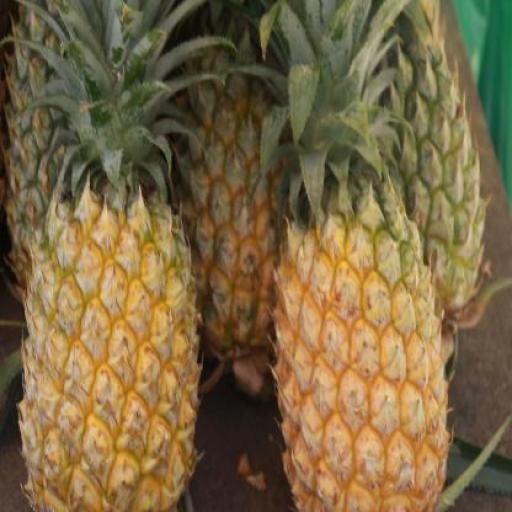Pineapple - v8 v1: (21, 200, 204, 512), (277, 204, 448, 511)
